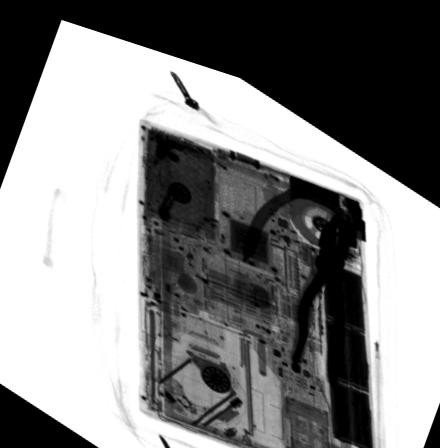Pliers: (289, 191, 351, 368)
